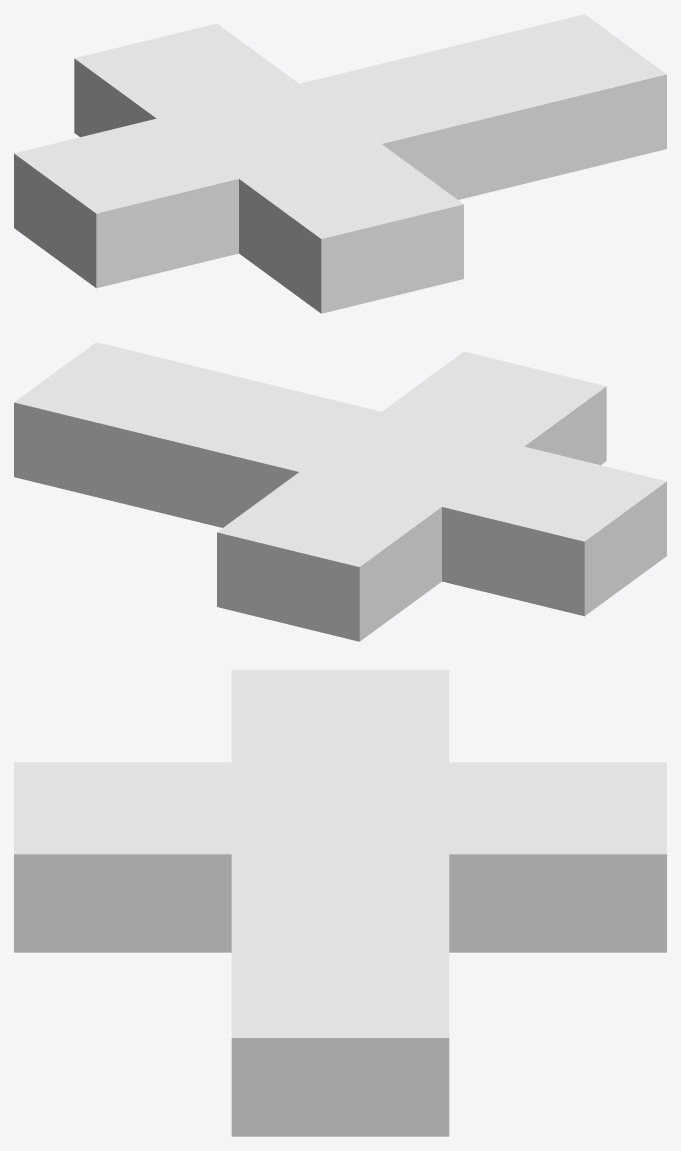
The model's file is cartone_aperto.gltf.
3 renders of one model, top to bottom at view 1: azimuth 30°, elevation 25°; view 2: azimuth 150°, elevation 25°; view 3: azimuth 270°, elevation 25°, orthographic. The views are drawn at different scales.
Visible parts, largest first — view 1: Layer.1; view 2: Layer.1; view 3: Layer.1.
Part boxes in pixels (<box>): Layer.1: <box>14,14,666,313</box>; Layer.1: <box>14,342,666,641</box>; Layer.1: <box>14,670,666,1136</box>.
Bounding box in the file's own units: 8 × 1 × 6.
Materials: 1 (1 with a texture image).
